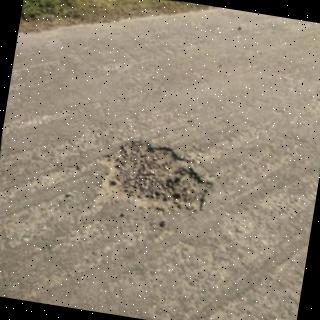pothole: (97, 142, 212, 211)
